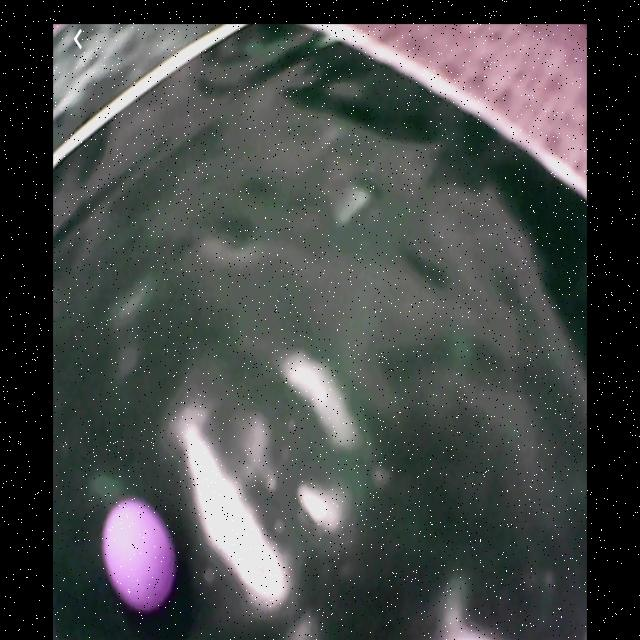ball: (102, 499, 178, 610)
